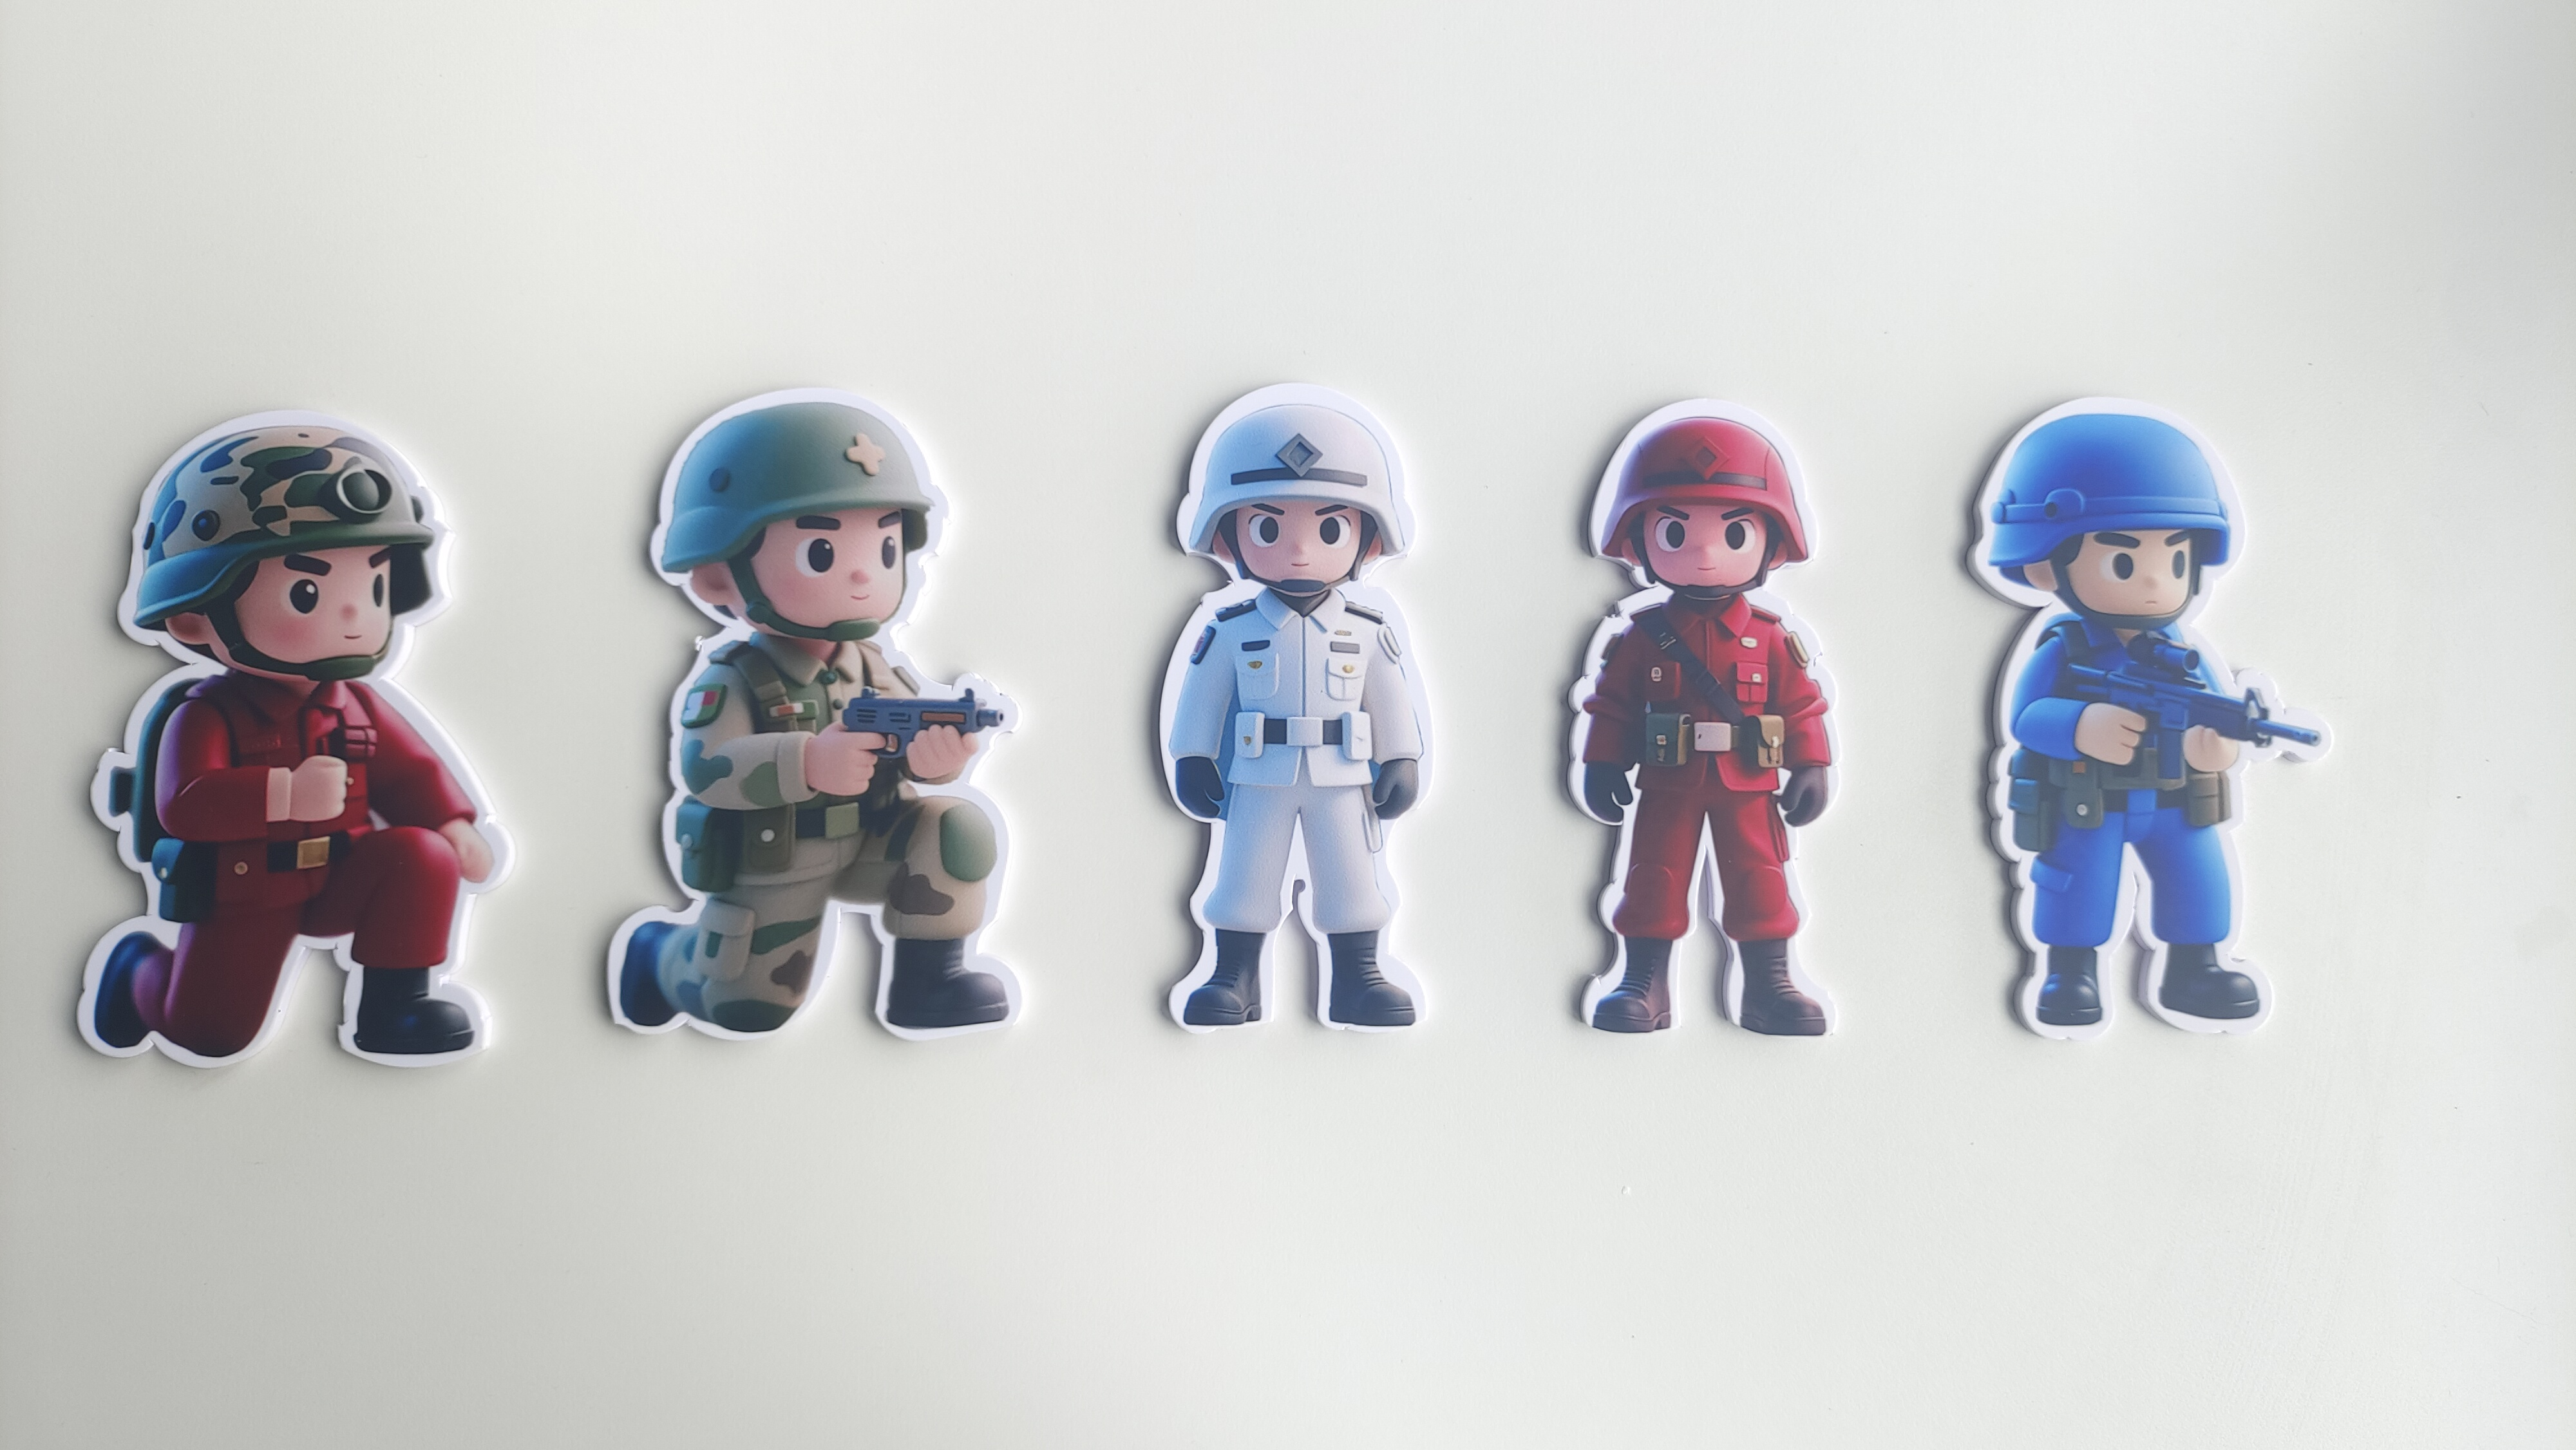enemy1: (60, 674, 517, 1065), (1541, 601, 1859, 1057)
enemy2: (1964, 615, 2293, 1042)
friend: (602, 647, 1028, 1045)
hostage: (1136, 589, 1449, 1054)
